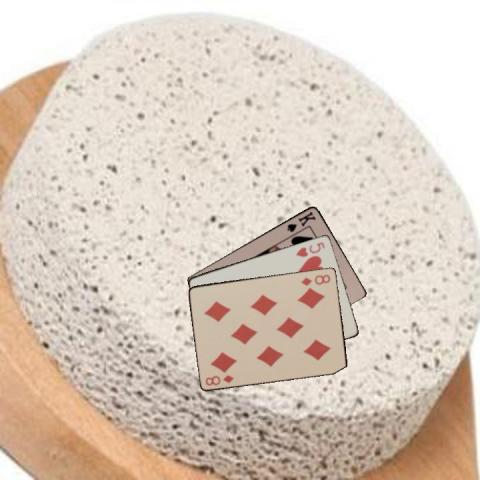5h: (293, 239, 326, 258)
8d: (298, 271, 332, 287), (203, 372, 235, 387)
Ks: (284, 208, 317, 233)
